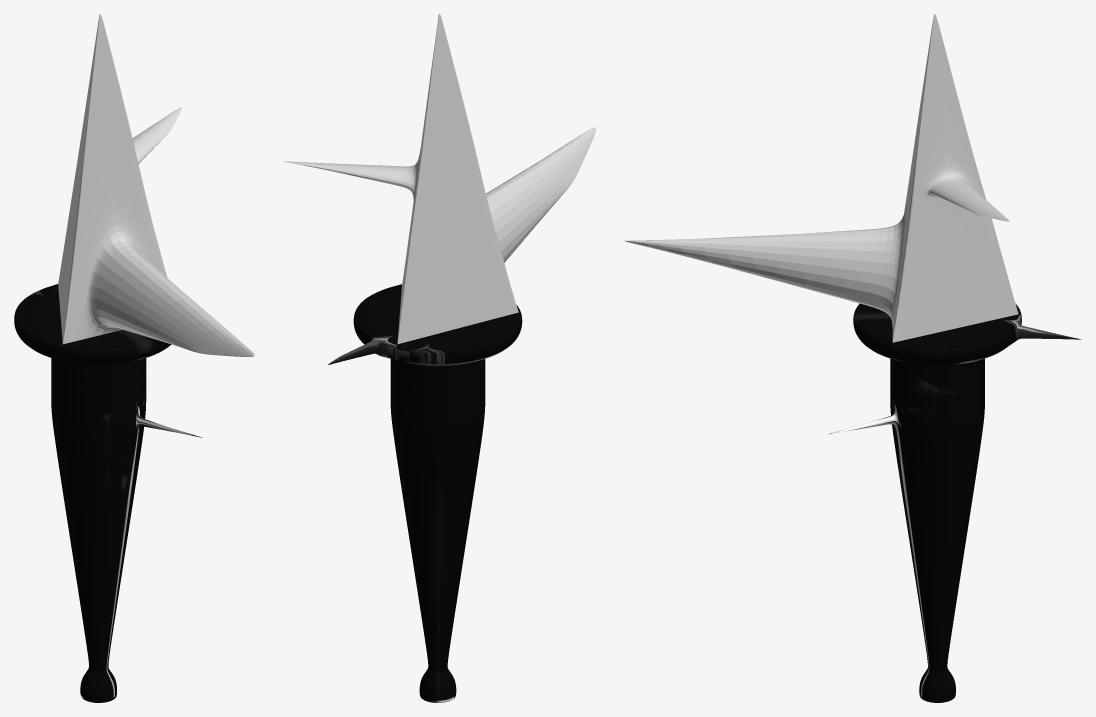
File: 4D dagger.fbx
The picture shows the model from 3 angles, left to right: view 1: azimuth 30°, elevation 25°; view 2: azimuth 150°, elevation 25°; view 3: azimuth 270°, elevation 25°; orthographic projection.
Parts seen in each view (by area): view 1: Cylinder; view 2: Cylinder; view 3: Cylinder.
Boxes of the visible parts, x1,y1,x2,y2 form: Cylinder: (14, 14, 254, 702); Cylinder: (283, 14, 595, 702); Cylinder: (625, 14, 1081, 702).
Bounding box in the file's own units: 4.66 × 15.77 × 9.59.
1 material, 1 textured.
